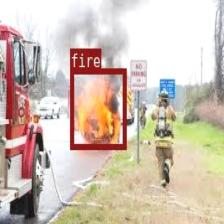fire: (69, 68, 126, 148)
